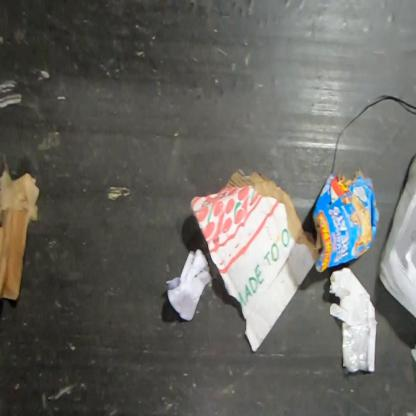cardboard: (189, 168, 322, 353), (310, 167, 380, 274), (0, 167, 41, 303), (165, 247, 213, 322)
